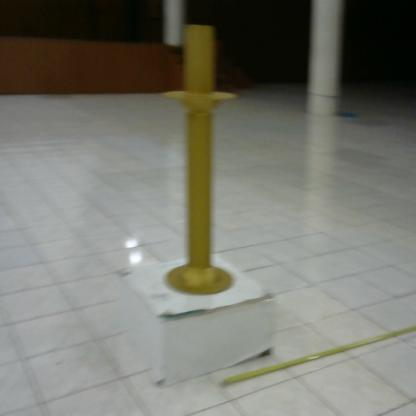pole: (152, 19, 241, 301)
